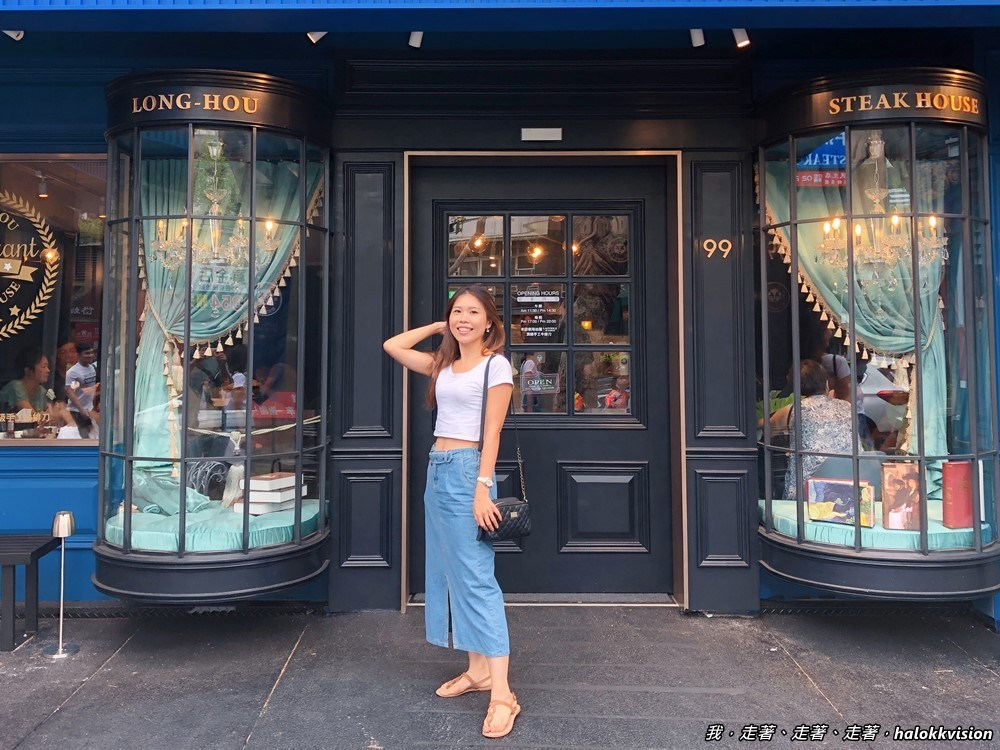people: (405, 283, 520, 740)
